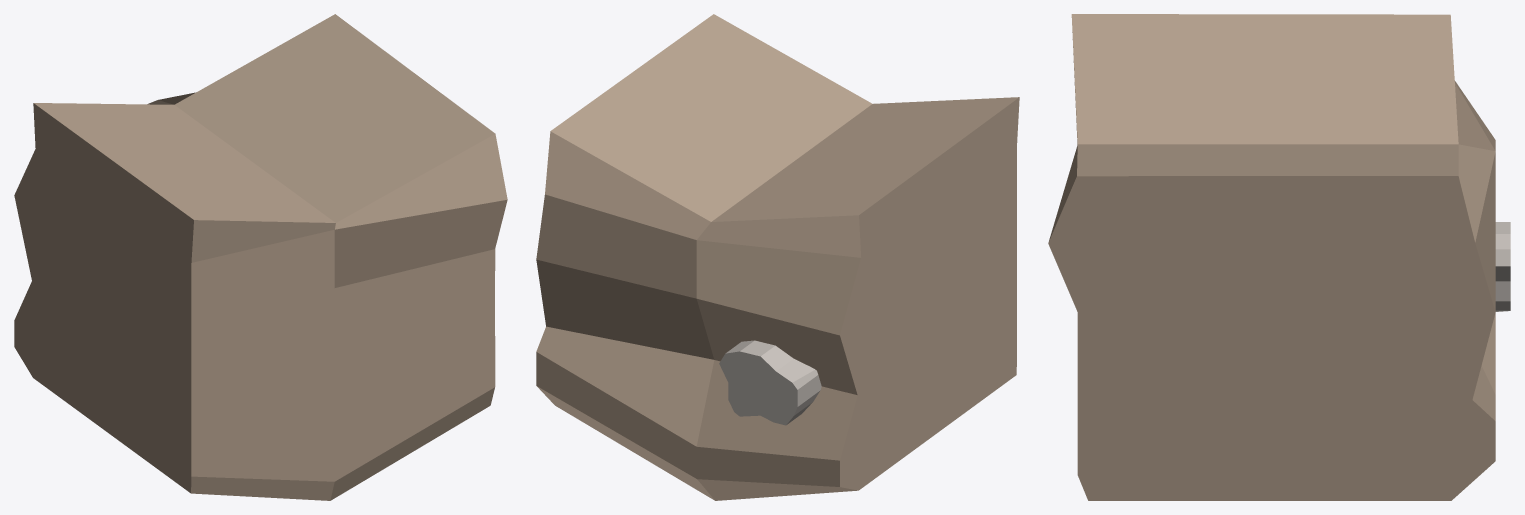
The model's file is MiddleDirtAttachment.fbx.
The picture shows the model from 3 angles, left to right: view 1: azimuth 30°, elevation 25°; view 2: azimuth 150°, elevation 25°; view 3: azimuth 270°, elevation 25°; orthographic projection. The views are drawn at different scales.
Visible parts, largest first — view 1: polySurface117; view 2: polySurface117; view 3: polySurface117.
Boxes of the visible parts, x1,y1,x2,y2 form: polySurface117: (14, 14, 507, 500); polySurface117: (536, 14, 1019, 500); polySurface117: (1048, 14, 1510, 500).
Size of the model in its own units: 1.99 by 2.07 by 2.21.
